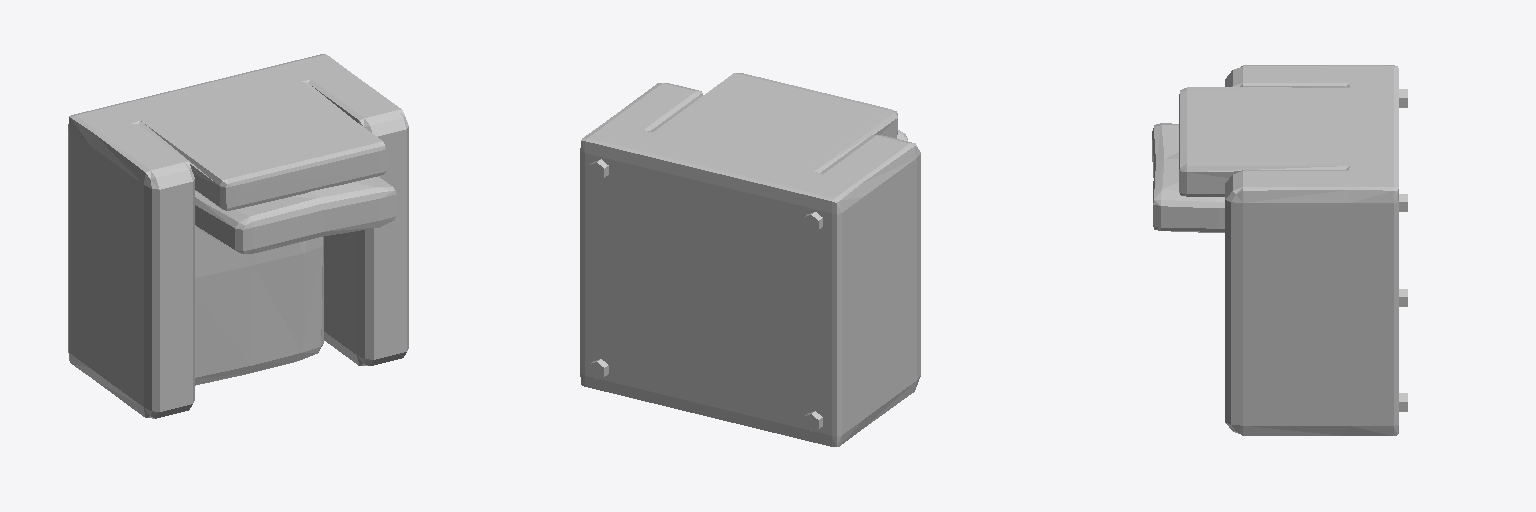
File: minisofa.obj
3 renders of one model, left to right at view 1: azimuth 30°, elevation 25°; view 2: azimuth 150°, elevation 25°; view 3: azimuth 270°, elevation 25°, orthographic.
Visible parts, largest first — view 1: MiniSofa_Sofa_Sofa_Cylinder.014; view 2: MiniSofa_Sofa_Sofa_Cylinder.014; view 3: MiniSofa_Sofa_Sofa_Cylinder.014.
Boxes of the visible parts, x1,y1,x2,y2 form: MiniSofa_Sofa_Sofa_Cylinder.014: [68, 54, 408, 418]; MiniSofa_Sofa_Sofa_Cylinder.014: [580, 73, 920, 446]; MiniSofa_Sofa_Sofa_Cylinder.014: [1152, 65, 1407, 435].
Bounding box in the file's own units: 0.7214 × 0.6827 × 0.6121.